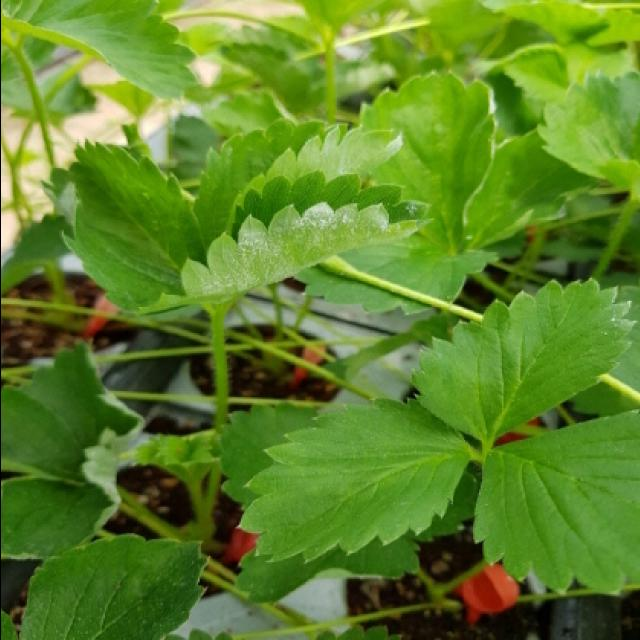Powdery Mildew Leaf: (178, 171, 435, 304)
